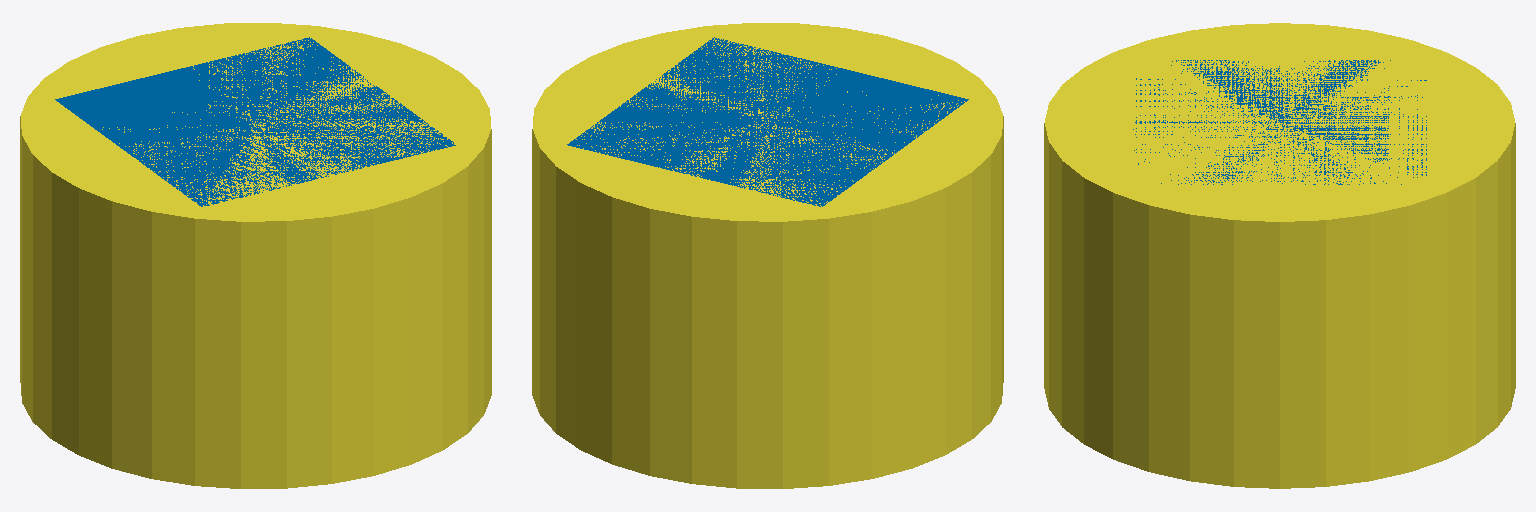
The robot description file, URDF, robot "baxter":
<?xml version="1.0" ?>
<!-- =================================================================================== -->
<!-- |    This document was autogenerated by xacro from /home/angysof16/ras2_ws/src/ras_junior2_activity/baxter_description/urdf/baxter.urdf.xacro | -->
<!-- |    EDITING THIS FILE BY HAND IS NOT RECOMMENDED                                 | -->
<!-- =================================================================================== -->
<robot name="baxter">
  <!-- Base link -->
  <!-- lo quite -->
  <!-- Pedestal -->
  <link name="base">
    <visual>
      <origin rpy="0 0 0" xyz="0 0 0"/>
      <geometry>
        <mesh filename="package://baxter_description/meshes/base/PEDESTAL.STL" scale="1 1 1"/>
      </geometry>
    </visual>
    <collision>
      <origin rpy="0 0 0" xyz="0 0 0"/>
      <geometry>
        <mesh filename="package://baxter_description/meshes/base/pedestal_link_collision.STL" scale="1 1 1"/>
      </geometry>
    </collision>
    <inertial>
      <mass value="10.0"/>
      <inertia ixx="1.0" ixy="0" ixz="0" iyy="1.0" iyz="0" izz="1.0"/>
    </inertial>
  </link>
  <!-- Head (pendiente llenar) -->
  <link name="head"/>
  <!-- Lower elbow -->
  <link name="lower_elbow"/>
  <!-- Lower forearm -->
  <link name="lower_forearm"/>
  <!-- Lower shoulder -->
  <link name="lower_shoulder"/>
  <!-- Torso -->
  <link name="torso"/>
  <!-- Upper elbow -->
  <link name="upper_elbow"/>
  <!-- Upper forearm -->
  <link name="upper_forearm"/>
  <!-- Upper shoulder -->
  <link name="upper_shoulder"/>
  <!-- Wrist -->
  <link name="wrist"/>
  <!-- TODO: Add joints/links for baxter (arms, wheels, etc.) -->
  <!-- pedestal - torso -->
  <joint name="pedestal_torso" type="fixed">
    <parent link="base"/>
    <child link="torso"/>
    <origin rpy="0 0 0" xyz="0 0 0"/>
  </joint>
  <!-- torso - head -->
  <joint name="torso_head" type="fixed">
    <parent link="torso"/>
    <child link="head"/>
    <origin rpy="0 0 0" xyz="0 0 0"/>
  </joint>
  <!-- torso - upper_shoulder -->
  <joint name="torso_upper_shoulder" type="fixed">
    <parent link="torso"/>
    <child link="upper_shoulder"/>
    <origin rpy="0 0 0" xyz="0 0 0"/>
  </joint>
  <!-- upper_shoulder - lower_shoulder -->
  <joint name="upper_shoulder_lower_shoulder" type="fixed">
    <parent link="upper_shoulder"/>
    <child link="lower_shoulder"/>
    <origin rpy="0 0 0" xyz="0 0 0"/>
  </joint>
  <!-- lower_shoulder - upper_elbow -->
  <joint name="lower_shoulder_upper_elbow" type="fixed">
    <parent link="lower_shoulder"/>
    <child link="upper_elbow"/>
    <origin rpy="0 0 0" xyz="0 0 0"/>
  </joint>
  <!-- upper_elbow - lower_elbow -->
  <joint name="upper_elbow_lower_elbow" type="fixed">
    <parent link="upper_elbow"/>
    <child link="lower_elbow"/>
    <origin rpy="0 0 0" xyz="0 0 0"/>
  </joint>
  <!-- lower_elbow - upper_forearm -->
  <joint name="lower_elbow_upper_forearm" type="fixed">
    <parent link="lower_elbow"/>
    <child link="upper_forearm"/>
    <origin rpy="0 0 0" xyz="0 0 0"/>
  </joint>
  <!-- upper_forearm - lower_forearm -->
  <joint name="upper_forearm_lower_forearm" type="fixed">
    <parent link="upper_forearm"/>
    <child link="lower_forearm"/>
    <origin rpy="0 0 0" xyz="0 0 0"/>
  </joint>
  <!-- lower_forearm - wrist -->
  <joint name="lower_forearm_wrist" type="fixed">
    <parent link="lower_forearm"/>
    <child link="wrist"/>
    <origin rpy="0 0 0" xyz="0 0 0"/>
  </joint>
  <link name="imu_link">
    <visual>
      <geometry>
        <box size="0.03 0.03 0.01"/>
      </geometry>
    </visual>
    <collision>
      <geometry>
        <box size="0.03 0.03 0.01"/>
      </geometry>
    </collision>
    <inertial>
      <!-- TODO_FILL_MASS -->
      <mass value="0.01"/>
      <!-- TODO_FILL_INERTIA -->
      <inertia ixx="1e-6" ixy="0" ixz="0" iyy="1e-6" iyz="0" izz="1e-6"/>
    </inertial>
  </link>
  <joint name="imu_link_joint" type="fixed">
    <parent link="base"/>
    <child link="imu_link"/>
  </joint>
  <link name="lidar_link">
    <visual>
      <geometry>
        <cylinder length="0.05" radius="0.04"/>
      </geometry>
    </visual>
    <collision>
      <geometry>
        <cylinder length="0.05" radius="0.04"/>
      </geometry>
    </collision>
    <inertial>
      <!-- TODO_FILL_MASS -->
      <mass value="0.1"/>
      <!-- TODO_FILL_INERTIA -->
      <inertia ixx="1e-4" ixy="0" ixz="0" iyy="1e-4" iyz="0" izz="1e-4"/>
    </inertial>
  </link>
  <joint name="lidar_link_joint" type="fixed">
    <parent link="base"/>
    <child link="lidar_link"/>
  </joint>
  <link name="camera_link">
    <visual>
      <geometry>
        <box size="0.05 0.05 0.05"/>
      </geometry>
    </visual>
    <collision>
      <geometry>
        <box size="0.05 0.05 0.05"/>
      </geometry>
    </collision>
    <inertial>
      <!-- TODO_FILL_MASS -->
      <mass value="0.2"/>
      <!-- TODO_FILL_INERTIA -->
      <inertia ixx="1e-3" ixy="0" ixz="0" iyy="1e-3" iyz="0" izz="1e-3"/>
    </inertial>
  </link>
  <joint name="camera_link_joint" type="fixed">
    <parent link="base"/>
    <child link="camera_link"/>
  </joint>
</robot>

--- What the picture shows (computed from the rendered views, not written in the file) ---
The picture shows the robot from 3 angles, left to right: view 1: azimuth 30°, elevation 25°; view 2: azimuth 150°, elevation 25°; view 3: azimuth 270°, elevation 25°; orthographic projection.
Robot: baxter — 13 links, 12 joints (12 fixed); root link base; default pose: every joint at zero.
Visible links, largest first — view 1: lidar_link, camera_link; view 2: lidar_link, camera_link; view 3: lidar_link, camera_link.
Link boxes in pixels (box(x1,y1,x2,y2)): lidar_link: box(20, 23, 491, 488); camera_link: box(55, 37, 455, 206); lidar_link: box(532, 23, 1003, 488); camera_link: box(567, 37, 968, 206); lidar_link: box(1044, 23, 1515, 488); camera_link: box(1133, 60, 1426, 184).
Bounding box of the posed robot: 0.08 × 0.08 × 0.05 m (x, y, z).
0 mesh visuals loaded from 1 distinct referenced files (none loaded); not drawn: 1 (reference not matched to a file when rendering).
